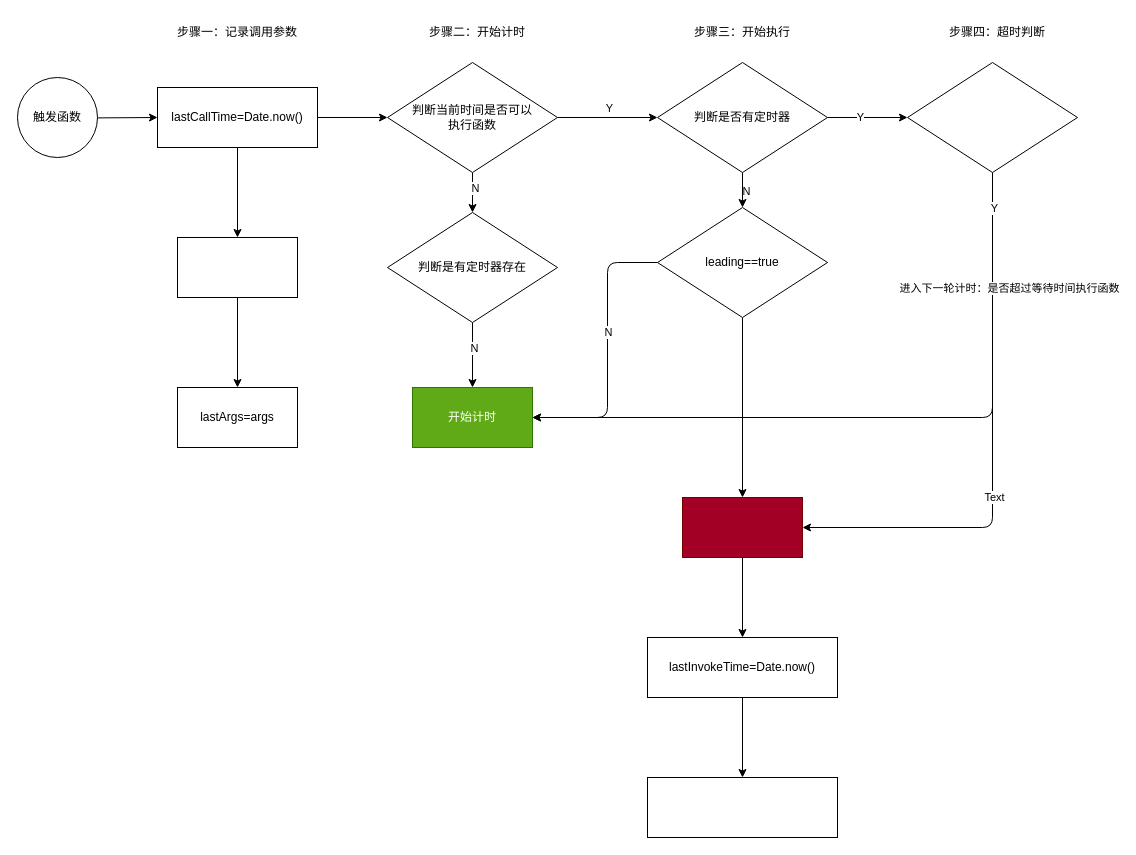
Some shapes in this 1136 by 855 pixel diagram are drawn without their labels. The shapes that lost their labels are listed below. From the top down, each one's centre as x and y in pixels, then its label:
the point at 992,117: 判断是否超时设置 maxTime
the point at 237,267: lastThis=this
the point at 742,527: 执行函数
the point at 742,807: lastThis=lastArgs=undefined
